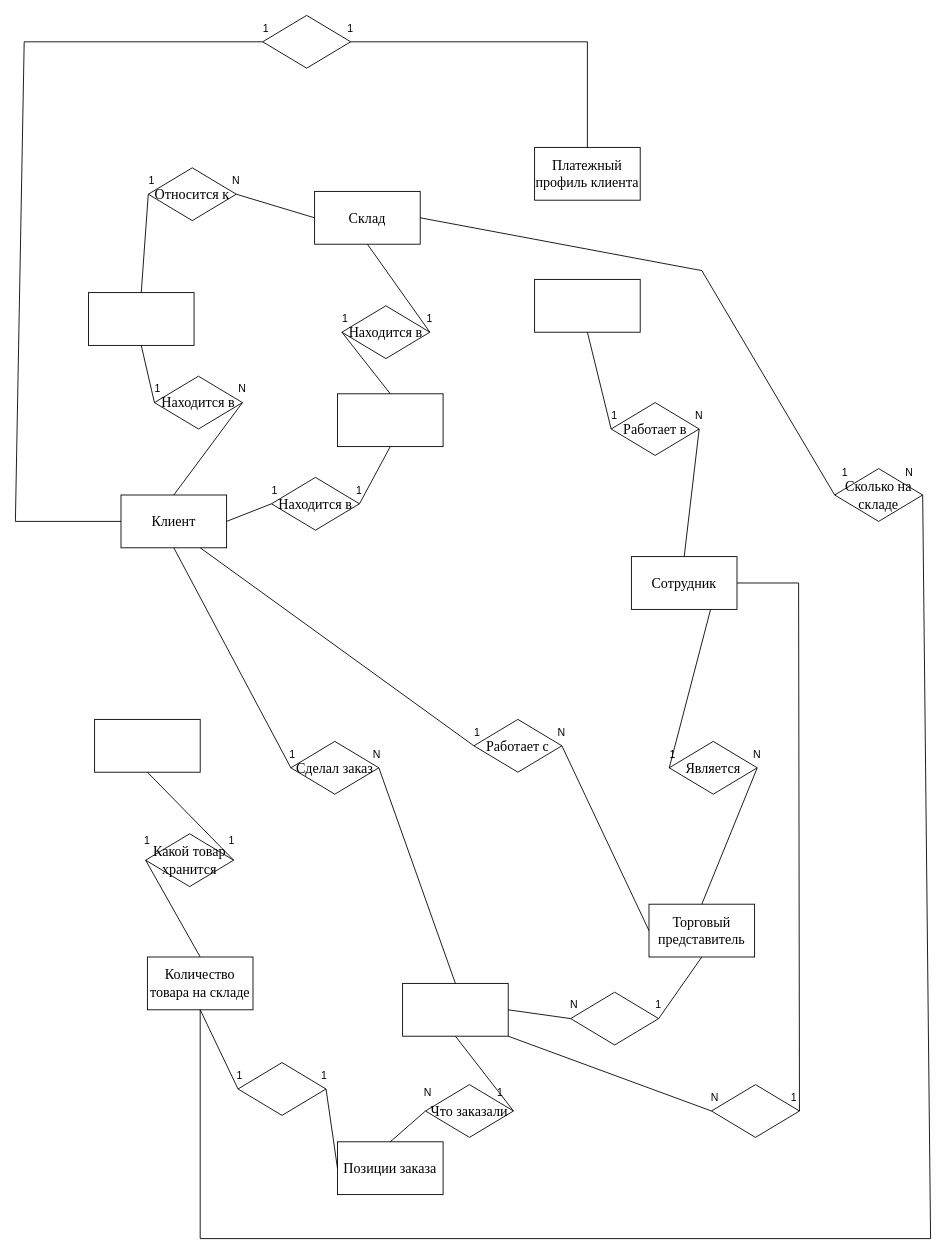
Some shapes in this 950 by 1255 pixel diagram are drawn without their labels. The shapes that lost their labels are listed below. From the top down, each one's box as (x1, y1, x2, y2) in pixels, then its label:
(262, 15, 351, 68): Имеет
(88, 292, 194, 345): Регион
(534, 279, 640, 332): Отдел
(337, 393, 443, 447): Адрес
(94, 719, 200, 772): Товар
(402, 983, 508, 1036): Заказ
(570, 991, 659, 1045): Представляет
(237, 1062, 326, 1115): Есть в наличии
(711, 1084, 799, 1137): Отвечает за
